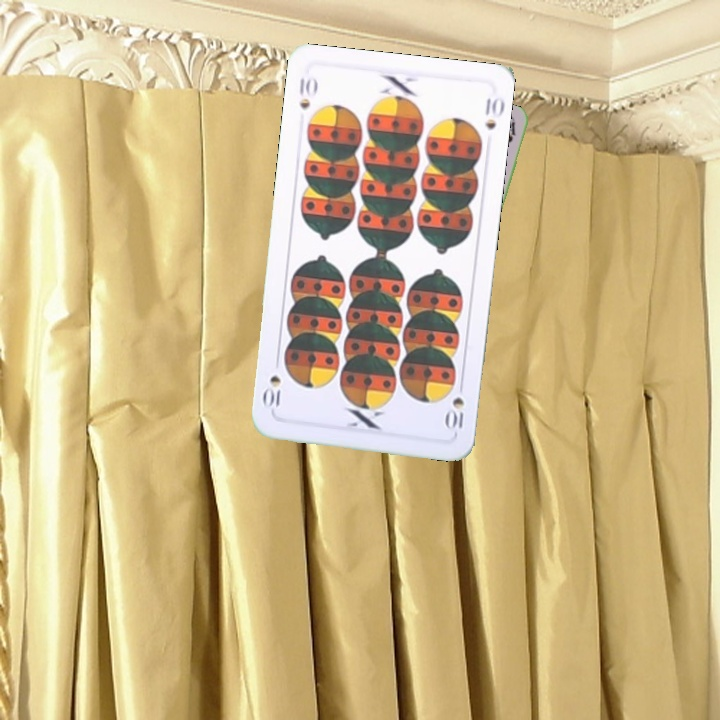S10: (442, 377, 466, 432), (295, 74, 320, 111)
